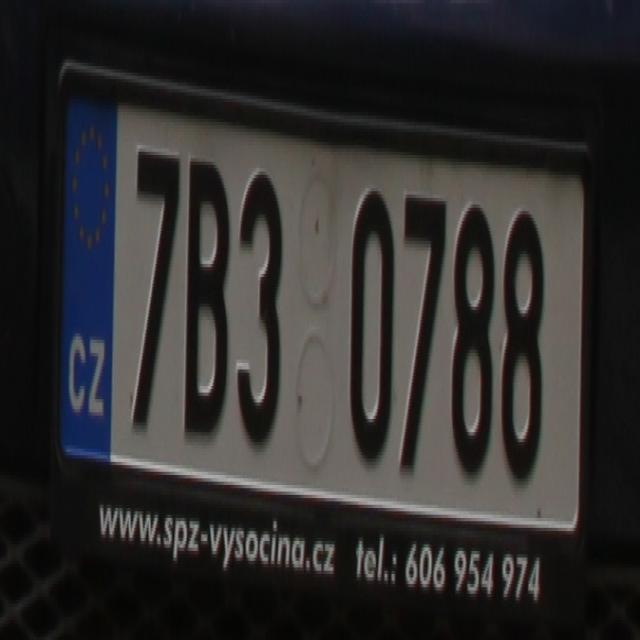0: (344, 185, 392, 462)
3: (235, 165, 283, 452)
7: (129, 138, 181, 426), (398, 184, 446, 472)
8: (500, 201, 544, 488), (452, 201, 492, 475)
B: (183, 148, 228, 448)
